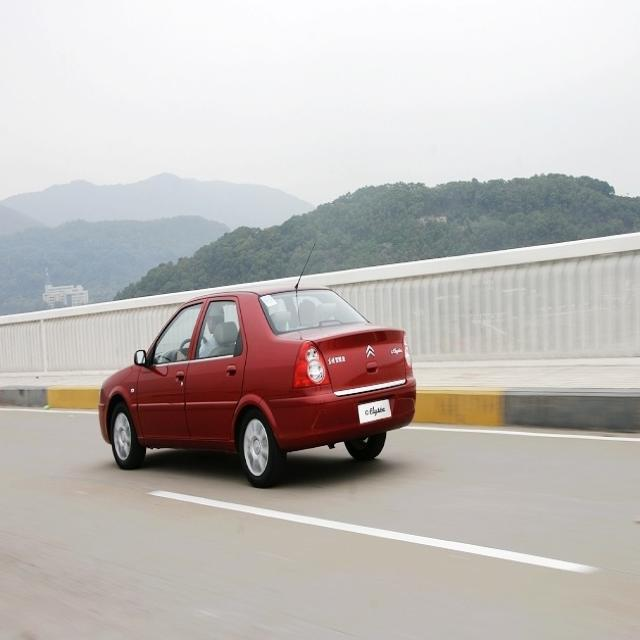back_glass: (258, 290, 370, 336)
back_left_side_light: (292, 338, 332, 391)
back_right_side_light: (403, 331, 412, 374)
door: (179, 297, 252, 447)
front_left_side_door: (135, 294, 210, 447)
front_left_side_mirror: (134, 348, 149, 367)
rear_bumper: (257, 367, 417, 451)
wheel: (239, 407, 286, 486), (110, 403, 145, 470), (344, 429, 386, 460)
